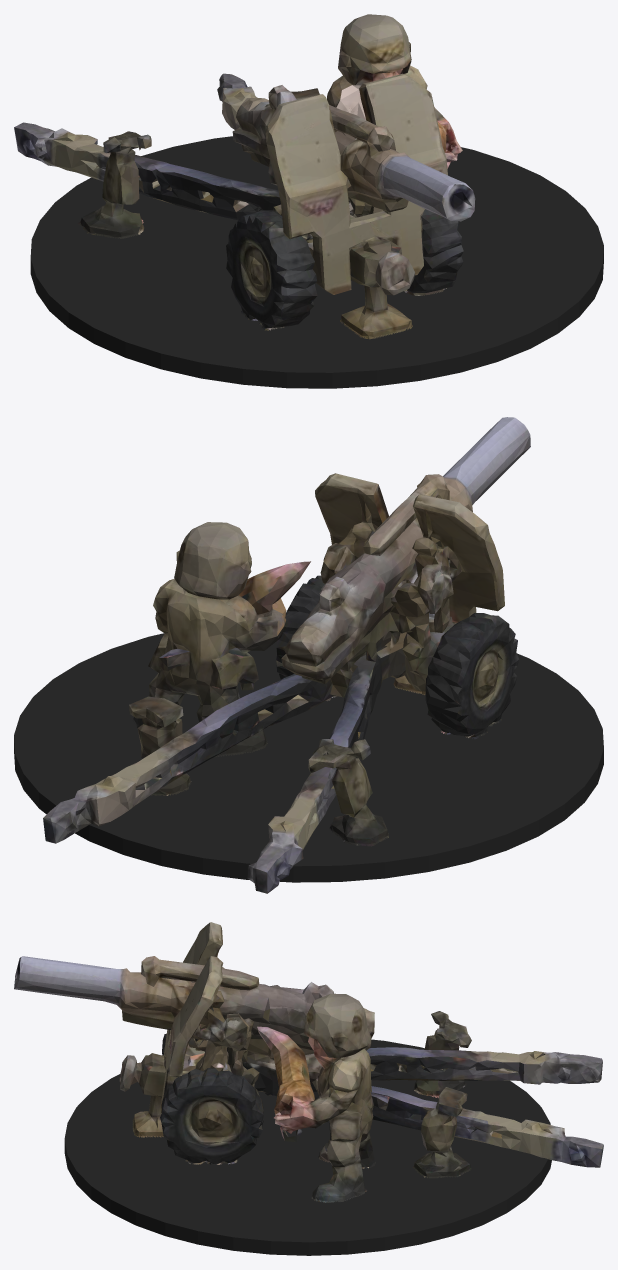
File: bombast-field-gun.glb
3 views of the same model, one above another, from view 1: azimuth 30°, elevation 25°; view 2: azimuth 150°, elevation 25°; view 3: azimuth 270°, elevation 25° (orthographic). The views are drawn at different scales.
Parts seen in each view (by area): view 1: base, figure; view 2: figure, base; view 3: figure, base.
Part boxes in pixels (box(x1,y1,x2,y2)): base: box(30, 136, 603, 388); figure: box(14, 14, 475, 339); figure: box(43, 417, 530, 893); base: box(14, 633, 603, 882); figure: box(14, 922, 603, 1202); base: box(64, 1039, 551, 1255).
Bounding box in the file's own units: 3.94 × 1.72 × 4.75.
Materials: 2 (1 with a texture image).
